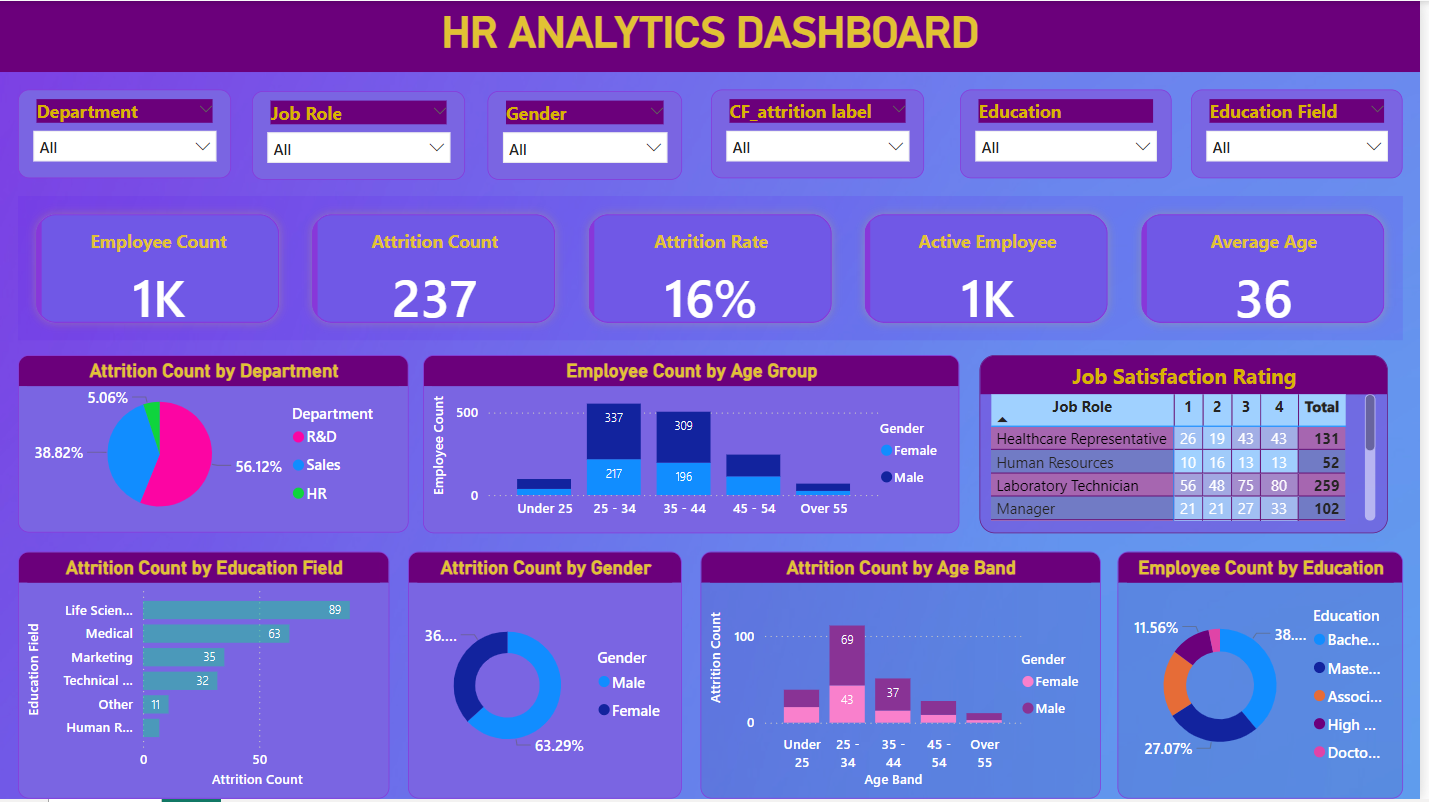

Layout of this report page (visuals, bound fields, positions):
{"tool":"powerbi","page":{"name":"Page 1","canvas":[1280,720],"ordinal":0},"visuals":[{"type":"textbox","box":[0,0,1280,64],"z":0},{"type":"slicer","fields":{"Values":["HR data.Department"]},"box":[16.7,80.3,192.3,80.3],"z":1000},{"type":"slicer","fields":{"Values":["HR data.Gender"]},"box":[439.1,81.8,175.6,80.3],"z":2000},{"type":"slicer","fields":{"Values":["HR data.Job Role"]},"box":[227.1,81.8,192.3,80.3],"z":3000},{"type":"slicer","fields":{"Values":["HR data.Education"]},"box":[864.6,80.3,190.8,80.3],"z":4000},{"type":"slicer","fields":{"Values":["HR data.CF_attrition label"]},"box":[640.5,80.3,192.3,80.3],"z":5000},{"type":"cardVisual","fields":{"Data":["Sum(HR data.Employee Count)","Sum(HR data.Attrition Count)","HR data.Attrition Rate","HR data.Active Employee","Median(HR data.Age)"]},"box":[16,176,1248,130],"z":6000},{"type":"pieChart","fields":{"Category":["HR data.Department"],"Y":["Sum(HR data.Attrition Count)"]},"box":[16,320,352,160],"z":7000,"group":"g2"},{"type":"columnChart","title":"Employee Count by Age Group","fields":{"Category":["HR data.CF_age band"],"Y":["Sum(HR data.Employee Count)"],"Series":["HR data.Gender"]},"box":[381.6,319.5,483,160.5],"z":8000,"group":"g2"},{"type":"pivotTable","title":"Job Satisfaction Rating","fields":{"Rows":["HR data.Job Role"],"Columns":["HR data.Job Satisfaction"],"Values":["Sum(HR data.Employee Count)"]},"box":[882.8,319.5,368,160.5],"z":9000,"group":"g2"},{"type":"barChart","fields":{"Category":["HR data.Education Field"],"Y":["Sum(HR data.Attrition Count)"]},"box":[16.7,496.7,334.6,222.6],"z":10000,"group":"g1"},{"type":"donutChart","fields":{"Category":["HR data.Gender"],"Y":["Sum(HR data.Attrition Count)"]},"box":[368,496.7,246.8,222.6],"z":11000,"group":"g1"},{"type":"columnChart","title":" Attrition Count by Age Band","fields":{"Y":["Sum(HR data.Attrition Count)"],"Category":["HR data.CF_age band"],"Series":["HR data.Gender"]},"box":[631.5,496.7,360.4,222.6],"z":12000,"group":"g1"},{"type":"donutChart","fields":{"Y":["Sum(HR data.Employee Count)"],"Category":["HR data.Education"]},"box":[1007,496.7,257.4,222.6],"z":13000,"group":"g1"},{"type":"group","id":"g1","title":"Group 1","box":[16.7,496.7,1247.7,222.6],"z":13001},{"type":"group","id":"g2","title":"Group 2","box":[16,319.5,1234.7,160.5],"z":13002},{"type":"slicer","fields":{"Values":["HR data.Education Field"]},"box":[1073.6,80.3,190.8,80.3],"z":13003}]}

Visuals, with their boxes in screenshot pixels (x1, y1, x2, y2), scaled from the page's 1280x720 canvas onto the 1429x802 screenshot:
textbox: (0, 0, 1428, 71)
slicer - HR data.Department: (19, 89, 233, 179)
slicer - HR data.Gender: (490, 91, 686, 181)
slicer - HR data.Job Role: (254, 91, 468, 181)
slicer - HR data.Education: (965, 89, 1178, 179)
slicer - HR data.CF_attrition label: (715, 89, 930, 179)
cardVisual - Sum(HR data.Employee Count) x Sum(HR data.Attrition Count): (18, 196, 1411, 341)
pieChart - HR data.Department x Sum(HR data.Attrition Count): (18, 356, 411, 535)
"Employee Count by Age Group" columnChart: (426, 356, 965, 535)
"Job Satisfaction Rating" pivotTable: (986, 356, 1396, 535)
barChart - HR data.Education Field x Sum(HR data.Attrition Count): (19, 553, 392, 801)
donutChart - HR data.Gender x Sum(HR data.Attrition Count): (411, 553, 686, 801)
" Attrition Count by Age Band" columnChart: (705, 553, 1107, 801)
donutChart - Sum(HR data.Employee Count) x HR data.Education: (1124, 553, 1412, 801)
"Group 1" group: (19, 553, 1412, 801)
"Group 2" group: (18, 356, 1396, 535)
slicer - HR data.Education Field: (1199, 89, 1412, 179)
